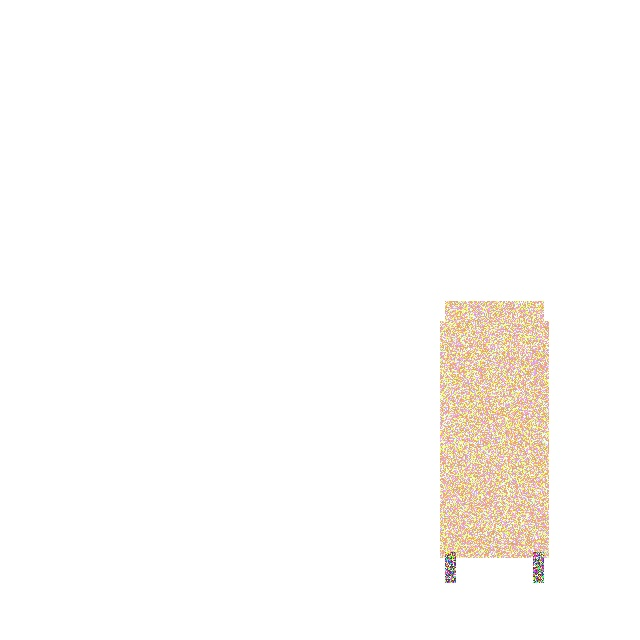Chaise: (440, 320, 548, 557)
